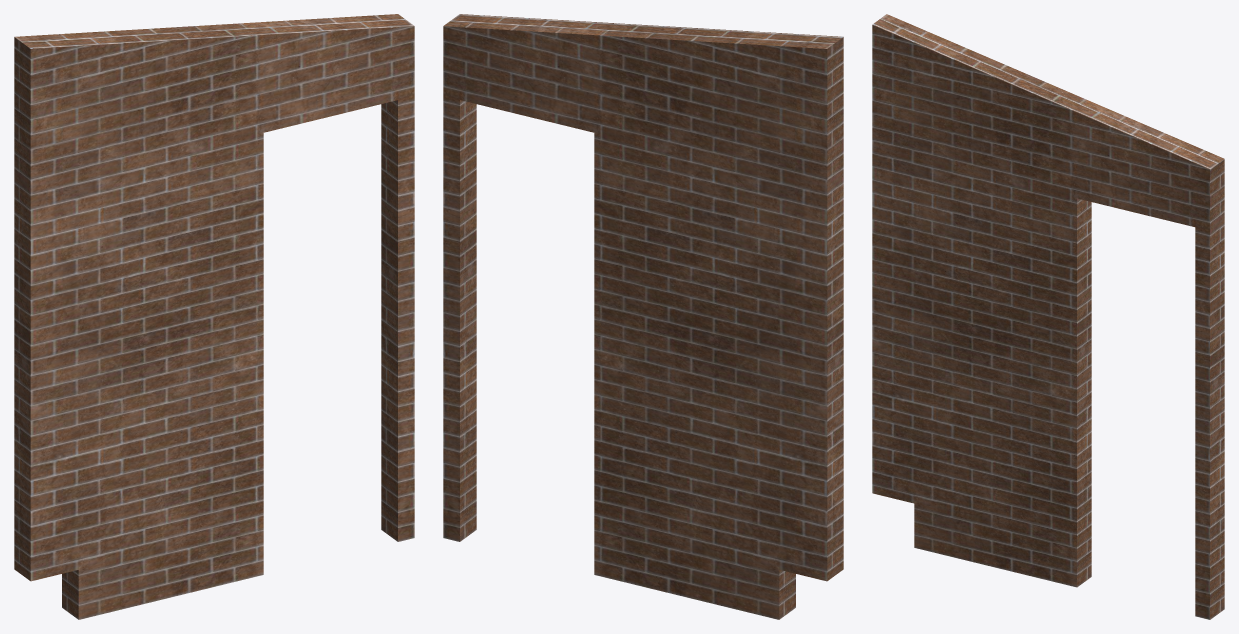
The model's file is Joglo_part_276.fbx.
The picture shows the model from 3 angles, left to right: view 1: azimuth 30°, elevation 25°; view 2: azimuth 150°, elevation 25°; view 3: azimuth 330°, elevation 25°; orthographic projection. The views are drawn at different scales.
Parts seen in each view (by area): view 1: Mesh341_Brick___Brown_0.001; view 2: Mesh341_Brick___Brown_0.001; view 3: Mesh341_Brick___Brown_0.001.
Boxes of the visible parts, <box> form: Mesh341_Brick___Brown_0.001: <box>14,14,414,619</box>; Mesh341_Brick___Brown_0.001: <box>443,14,843,619</box>; Mesh341_Brick___Brown_0.001: <box>872,14,1224,619</box>.
Size of the model in its own units: 78.74 by 114 by 5.91.
